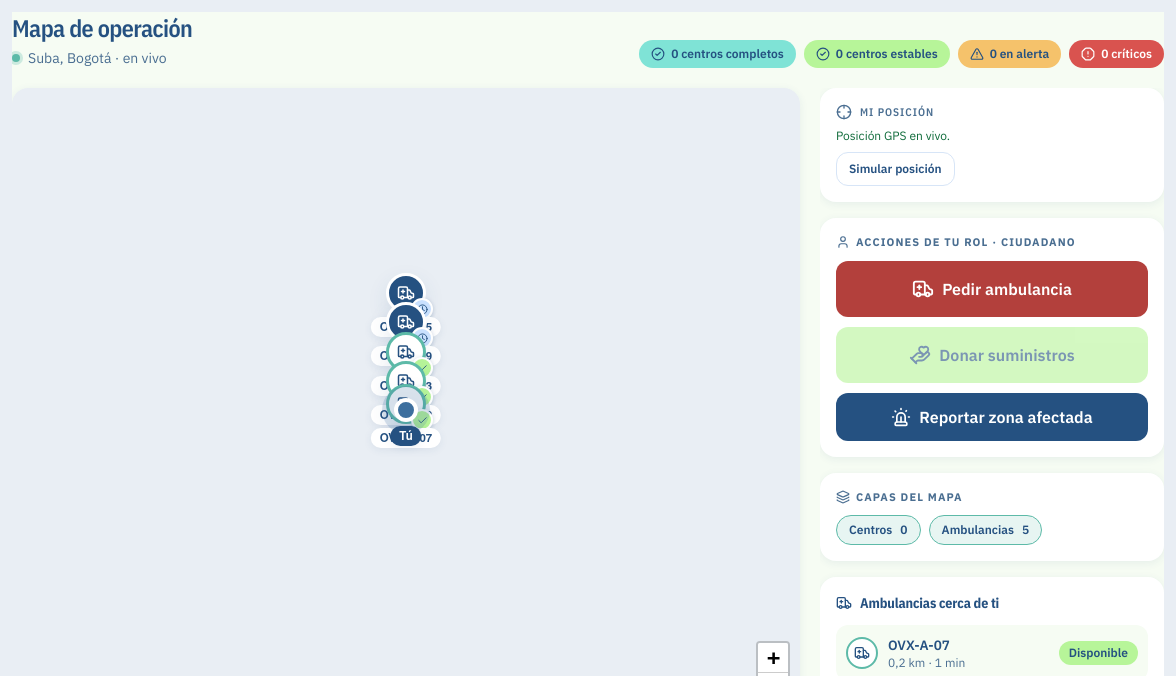
Test: CitizenMapPage › cancels for real: publishes solicitud.cancel and returns to the map rail
The image size is (1176, 676).
Click the button "Pedir ambulancia".
click(992, 288)  # box [836,260,1148,316]
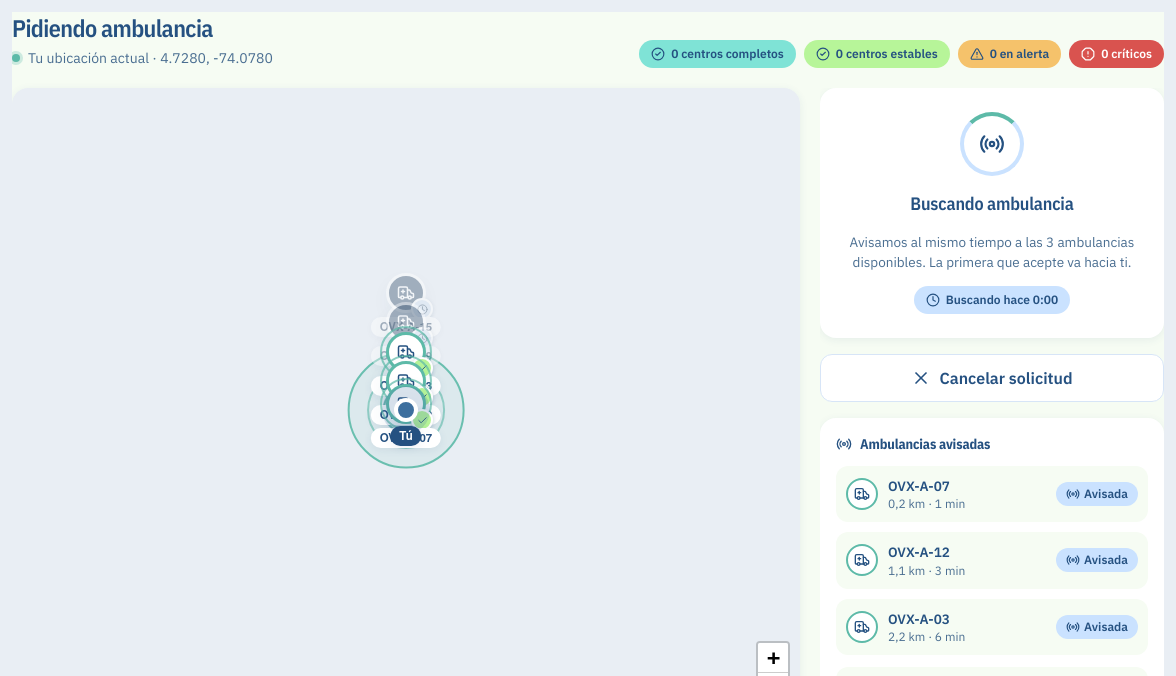
Click the button "Cancelar solicitud".
click(992, 378)  # box [820,354,1164,402]
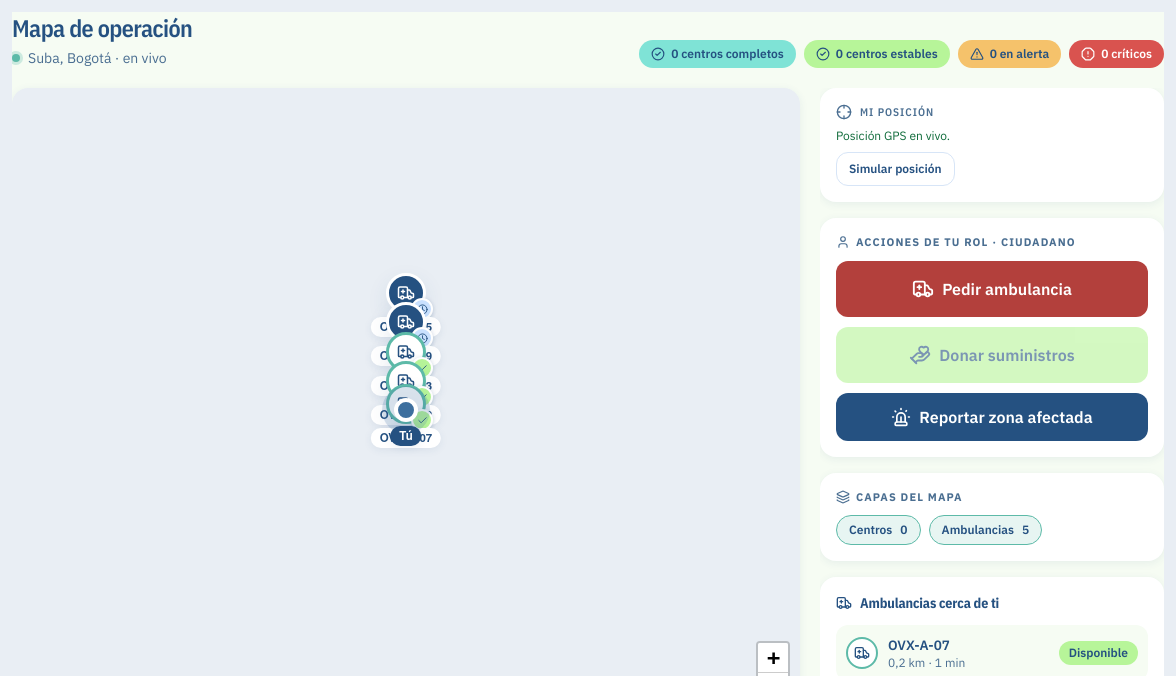
Expected: the heading "Mapa de operación" is shown, [12,12,192,44]
Expected: the button "Pedir ambulancia" is shown, [836,260,1148,316]
